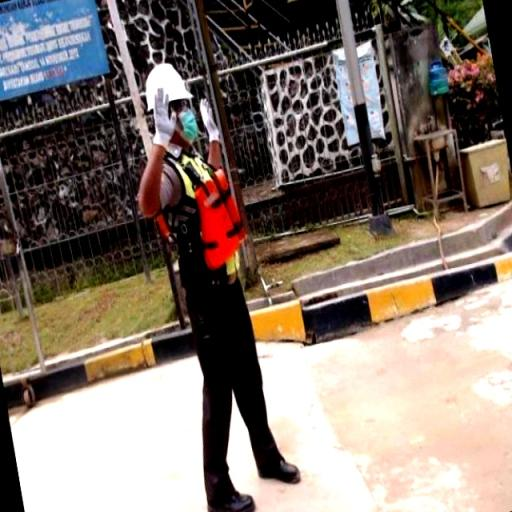Person: (124, 55, 325, 509)
gloves: (146, 85, 177, 155), (196, 92, 226, 146)
helmet: (141, 61, 197, 108)
vest: (154, 151, 264, 287)
